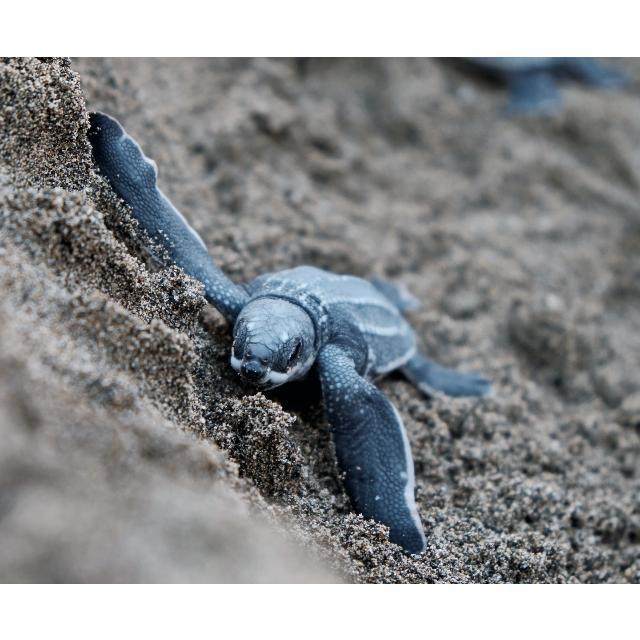turtle: (84, 109, 489, 555)
